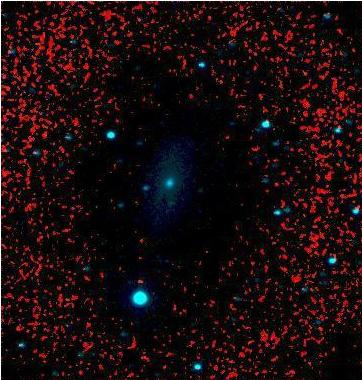star: (126, 266, 156, 296)
